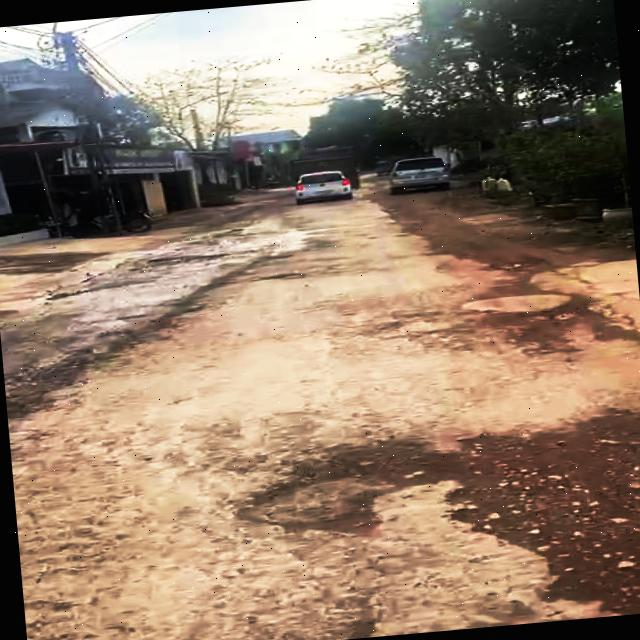pothole: (438, 414, 640, 629), (214, 430, 436, 542)
